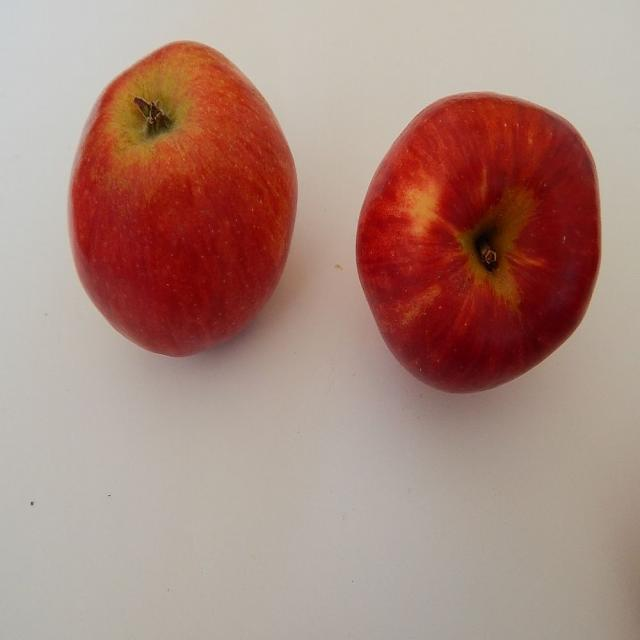Apple: (350, 91, 604, 401), (62, 39, 302, 350)
